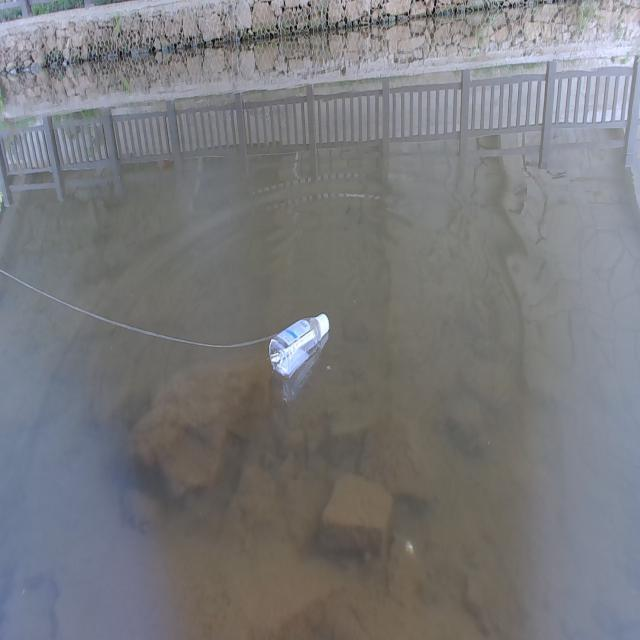garbage: (268, 311, 330, 379)
